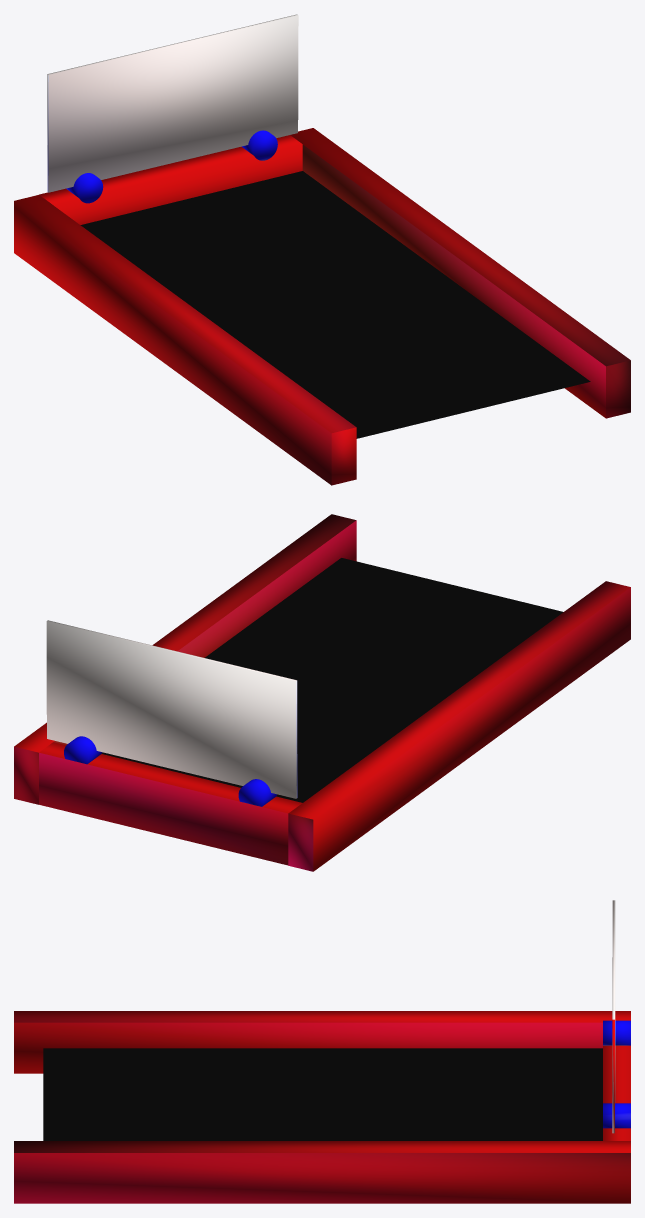
Rendered from Arena.fbx.
3 renders of one model, top to bottom at view 1: azimuth 30°, elevation 25°; view 2: azimuth 150°, elevation 25°; view 3: azimuth 270°, elevation 25°, orthographic. The views are drawn at different scales.
Parts seen in each view (by area): view 1: Cube_002, Cube, Cylinder, Cylinder_001; view 2: Cube_002, Cube, Cylinder_001, Cylinder; view 3: Cube_002, Cube, Cylinder_001, Cylinder.
Part boxes in pixels (left/top/right/bottom): Cube_002: left=14, top=128, right=630, bottom=485; Cube: left=47, top=14, right=298, bottom=192; Cylinder: left=66, top=173, right=103, bottom=203; Cylinder_001: left=242, top=130, right=277, bottom=160; Cube_002: left=14, top=514, right=630, bottom=871; Cube: left=46, top=620, right=297, bottom=798; Cylinder_001: left=64, top=736, right=102, bottom=764; Cylinder: left=238, top=779, right=276, bottom=806; Cube_002: left=14, top=1011, right=630, bottom=1203; Cube: left=612, top=900, right=615, bottom=1133; Cylinder_001: left=603, top=1103, right=630, bottom=1128; Cylinder: left=603, top=1020, right=630, bottom=1045.
Size of the model in its own units: 24 by 13.67 by 44.11.
